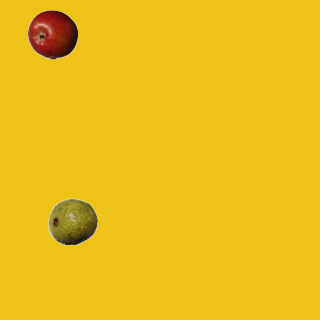Apple Braeburn: (27, 9, 77, 59)
Guava: (47, 196, 97, 246)
